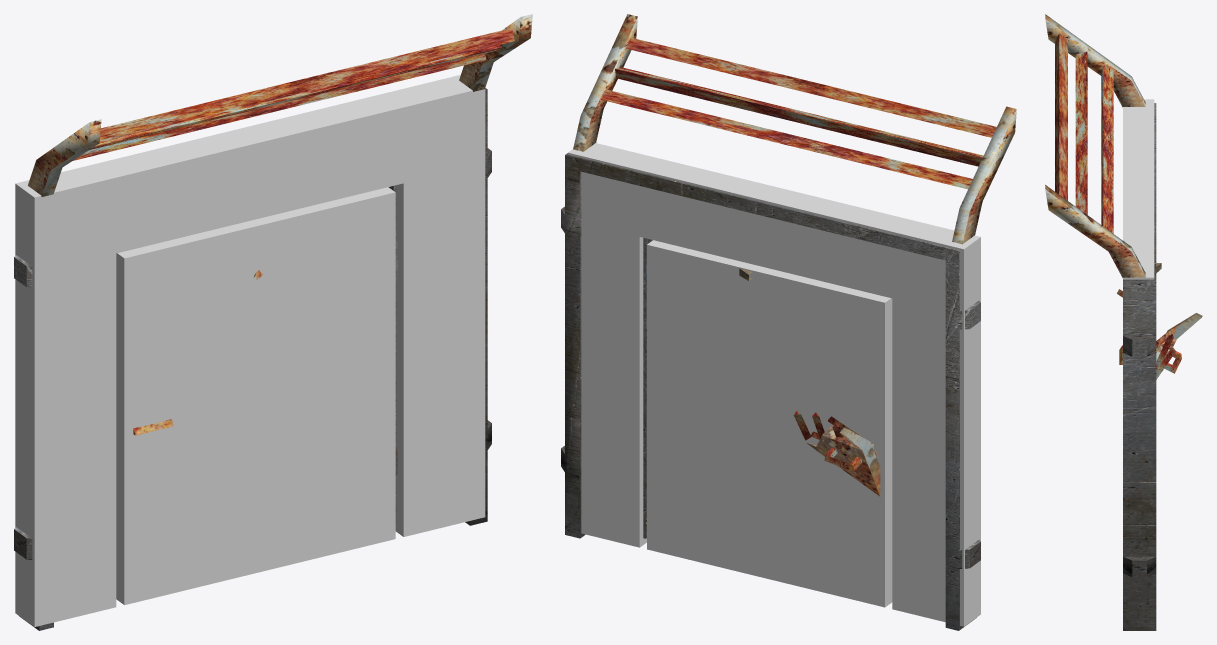
The picture shows the model from 3 angles, left to right: view 1: azimuth 30°, elevation 25°; view 2: azimuth 150°, elevation 25°; view 3: azimuth 270°, elevation 25°; orthographic projection. The views are drawn at different scales.
Parts seen in each view (by area): view 1: VC3x3_Mar-col, VC3x3_Pu-col, VC3x3_Sup, VC3x3_PuBor; view 2: VC3x3_Pu-col, VC3x3_Mar-col, VC3x3_Sup, VC3x3_PuBor, VC3x3_PuBIn, VC3x3_PuAEx; view 3: VC3x3_PuBor, VC3x3_Sup, VC3x3_Mar-col, VC3x3_PuBIn.
Boxes of the visible parts, bbox=[...] form: VC3x3_Mar-col: bbox=[15, 75, 485, 626]; VC3x3_Pu-col: bbox=[116, 187, 395, 605]; VC3x3_Sup: bbox=[28, 14, 532, 196]; VC3x3_PuBor: bbox=[14, 88, 491, 630]; VC3x3_Pu-col: bbox=[647, 240, 892, 607]; VC3x3_Mar-col: bbox=[568, 143, 980, 626]; VC3x3_Sup: bbox=[573, 14, 1016, 244]; VC3x3_PuBor: bbox=[561, 153, 980, 630]; VC3x3_PuBIn: bbox=[739, 268, 880, 496]; VC3x3_PuAEx: bbox=[643, 238, 652, 538]; VC3x3_PuBor: bbox=[1123, 103, 1156, 630]; VC3x3_Sup: bbox=[1045, 14, 1145, 277]; VC3x3_Mar-col: bbox=[1123, 99, 1154, 279]; VC3x3_PuBIn: bbox=[1117, 263, 1202, 379].
Size of the model in its own units: 2.99 by 3.32 by 1.08.
Materials: 1 (1 with a texture image).
